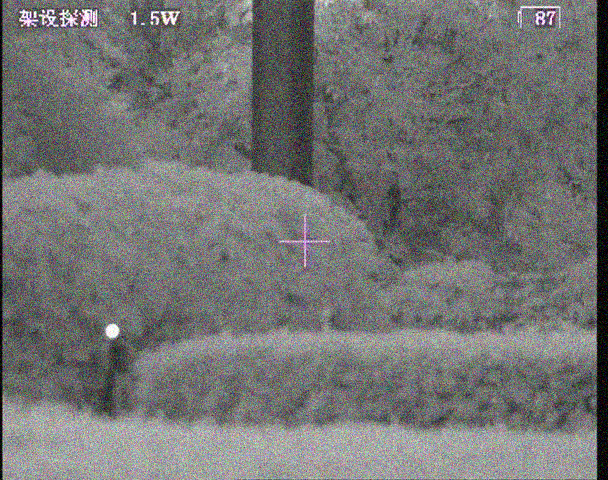my: (105, 323, 120, 339)
